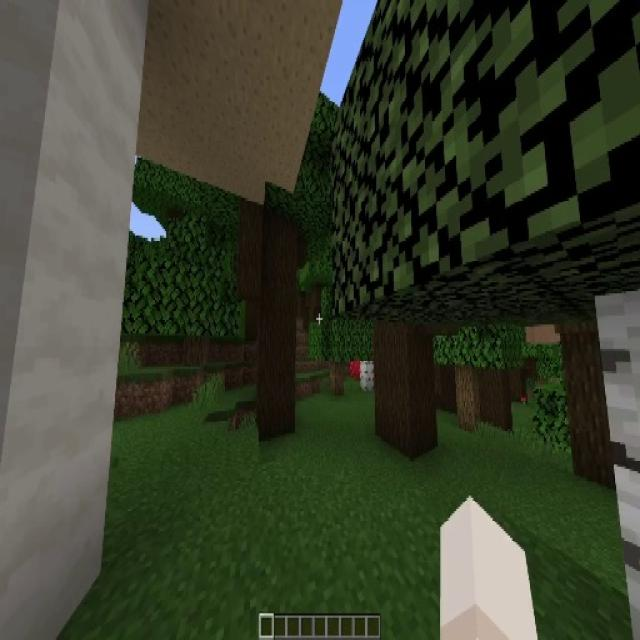birch: (429, 299, 506, 429), (308, 287, 363, 393)
birch_log: (360, 358, 373, 393)
dark_oak: (223, 89, 338, 436)
dark_oak_log: (255, 210, 297, 439), (375, 321, 435, 458), (478, 366, 510, 430)
oak: (149, 223, 239, 367)
oak_log: (456, 364, 477, 429), (183, 335, 204, 369), (330, 364, 342, 394)
